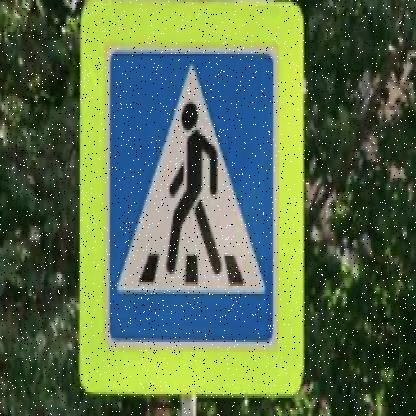Pedestrian Crossing: (113, 59, 272, 335)
